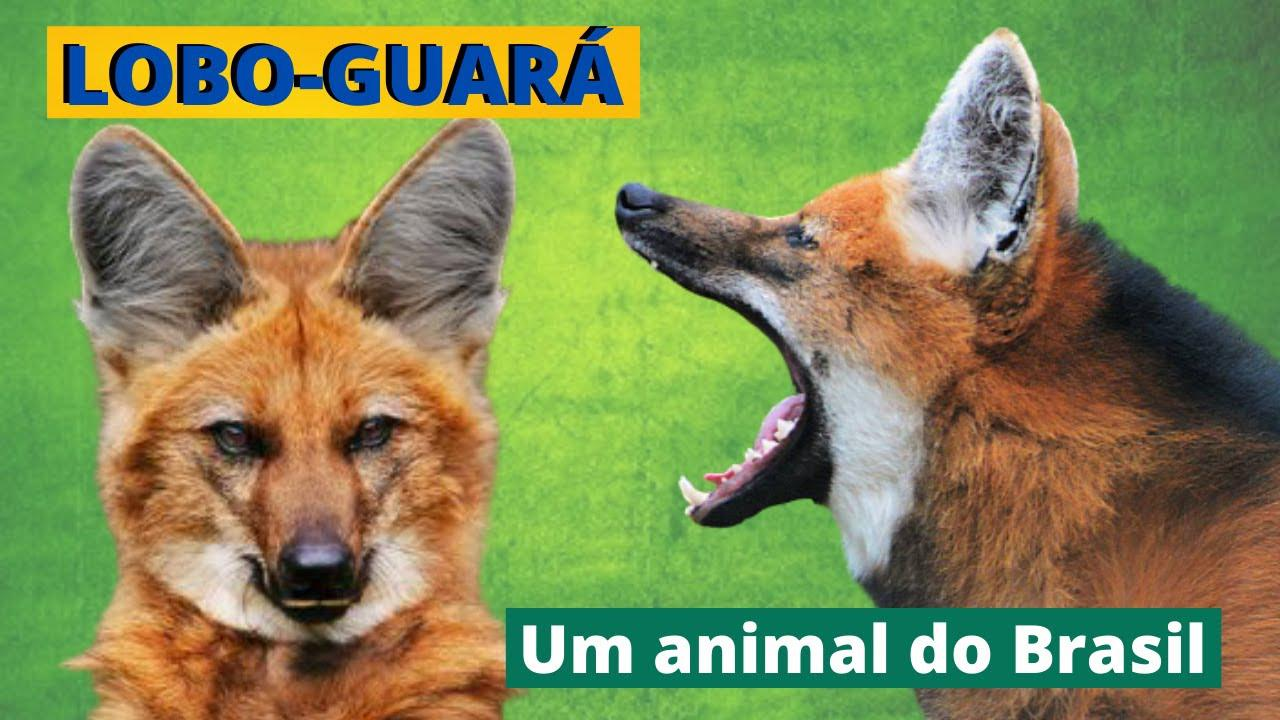LoboGuara: (609, 125, 1257, 595), (47, 127, 501, 711)
